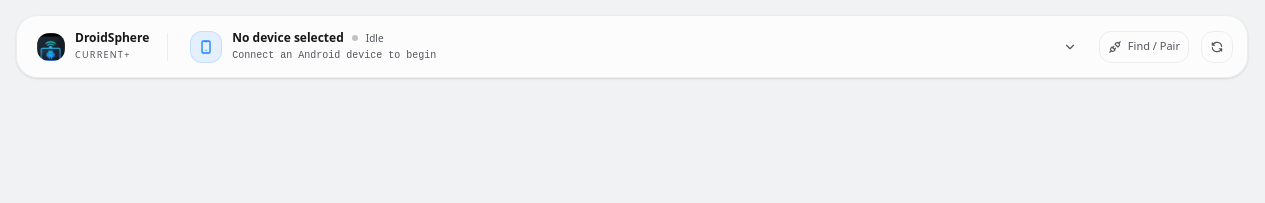
Scenario: CurrentPlusTopBar › opens the device dropdown without Base UI group context errors
The image size is (1265, 203).
Click the button "No device selected".
click(206, 46)  # box [180,24,1087,69]
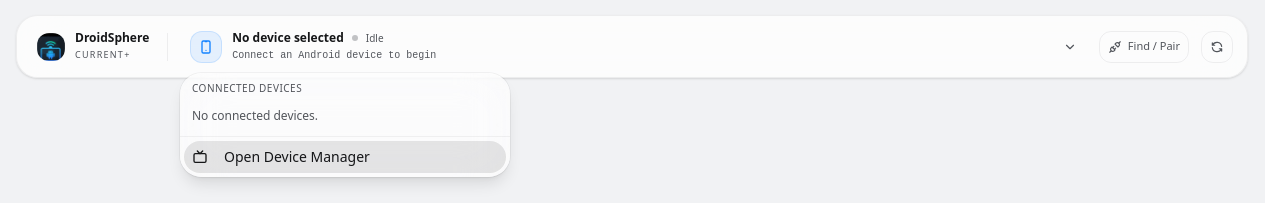
Result: the text "Connected devices" is shown at [192,81,302,95]
Result: the text "No connected devices." is shown at [192,107,318,124]
